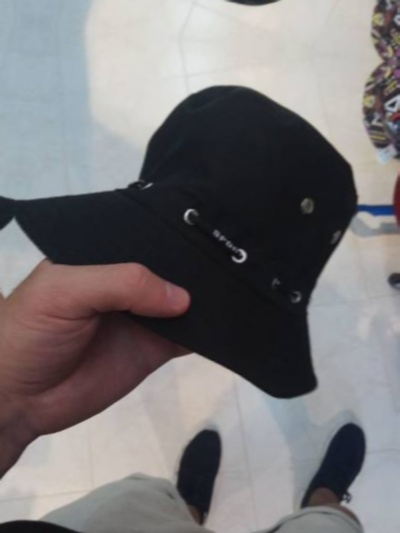Hat: (4, 51, 371, 422), (48, 0, 400, 31), (0, 12, 24, 383)
